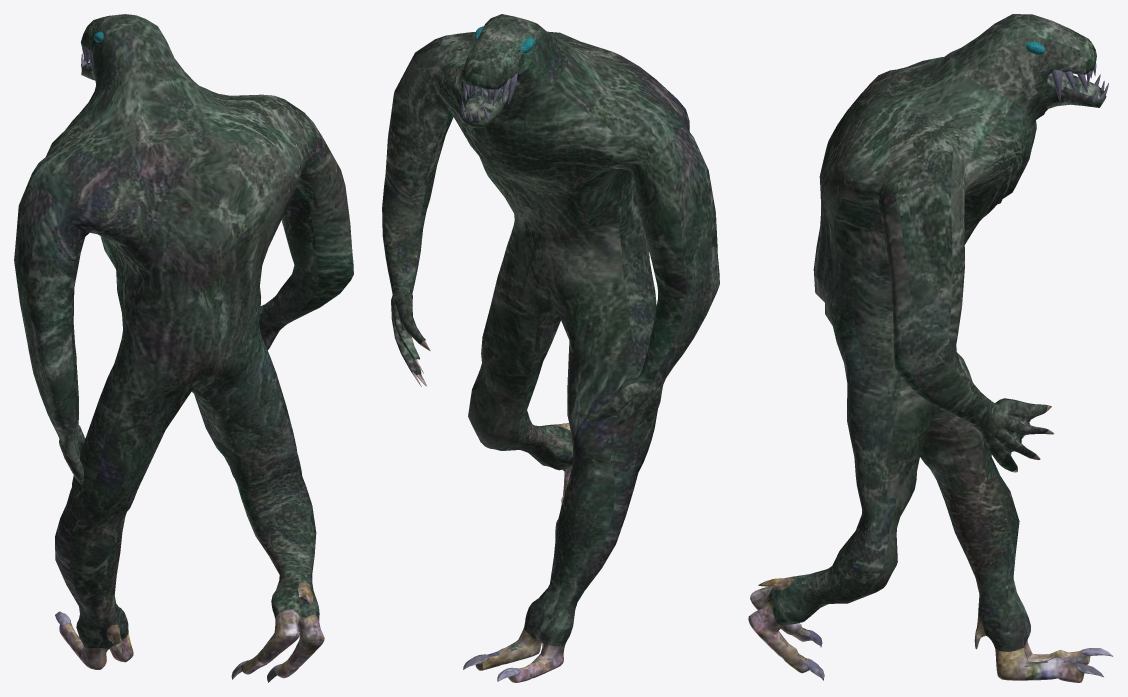
File: Andar.0016.obj
The picture shows the model from 3 angles, left to right: view 1: azimuth 30°, elevation 25°; view 2: azimuth 150°, elevation 25°; view 3: azimuth 270°, elevation 25°; orthographic projection. The views are drawn at different scales.
Visible parts, largest first — view 1: polySurface28; view 2: polySurface28; view 3: polySurface28.
Boxes of the visible parts, x1,y1,x2,y2 form: polySurface28: [14, 14, 353, 682]; polySurface28: [382, 14, 719, 682]; polySurface28: [748, 14, 1112, 682].
Bounding box in the file's own units: 1.21 × 2.31 × 1.14.
4 materials, 4 textured.
